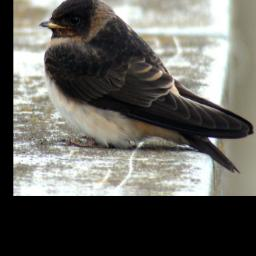Swallow: (35, 0, 256, 176)
